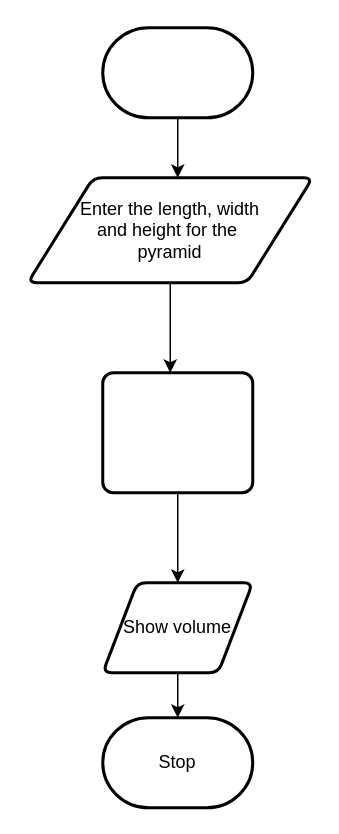
The diagram is 339 pixels wide and 834 high, and some of its shapes have lost their labels. The shapes that lost their labels are listed below. From the top down, each one's box as (x1, y1, x2, y2) in pixels, then its label:
(100, 26, 254, 118): Start
(100, 370, 254, 494): volume= lwh/3
